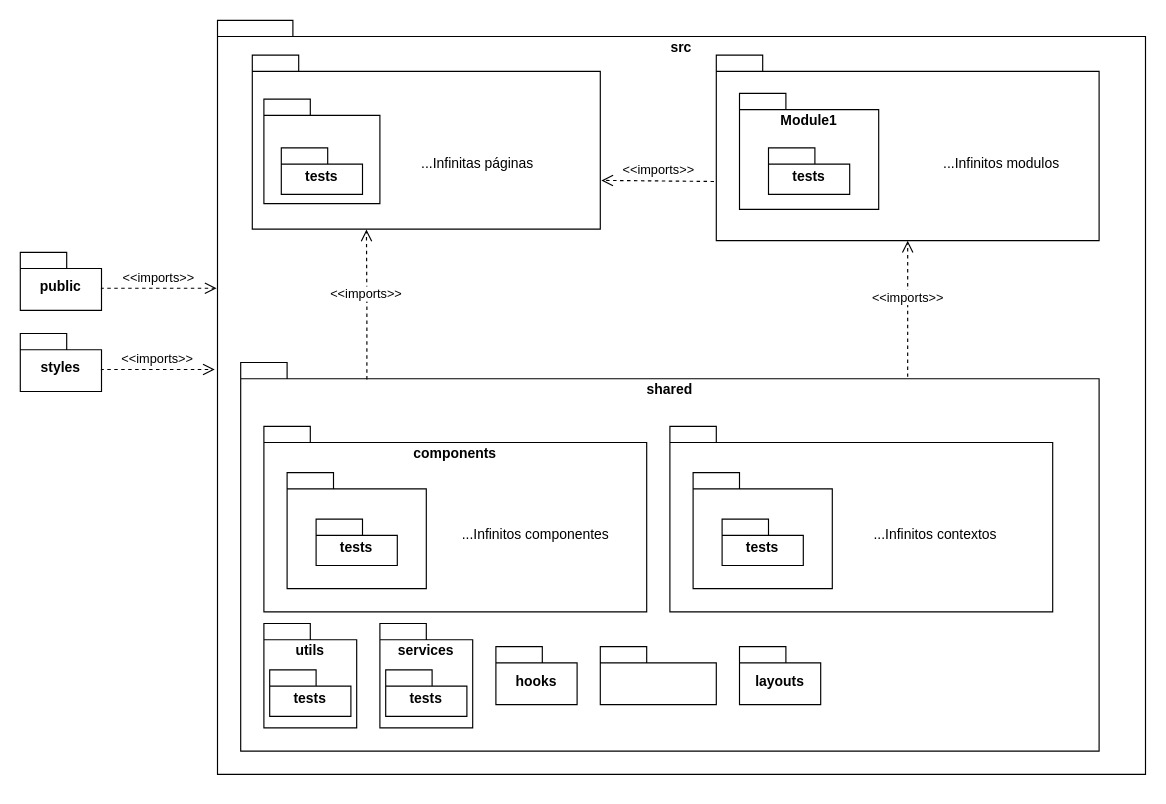
Some shapes in this 1166 by 804 pixel diagram are drawn without their labels. The box of each missing label's shape, as (x1, y1, x2, y2) in pixels:
Component1: (286, 472, 426, 589)
Context1: (692, 472, 832, 589)
contexts: (669, 425, 1053, 612)
customTypes: (599, 646, 716, 705)
modules: (715, 54, 1099, 241)
Page1: (263, 98, 380, 204)
pages: (251, 54, 600, 229)
